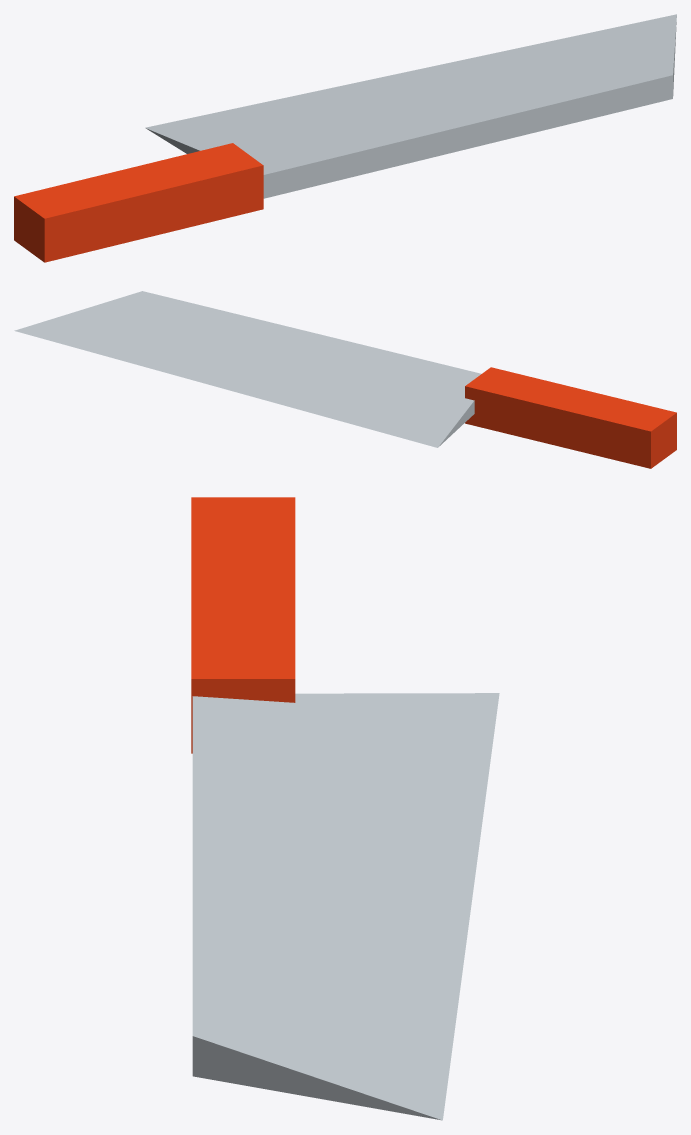
File: dao.FBX
3 views of the same model, one above another, from view 1: azimuth 30°, elevation 25°; view 2: azimuth 150°, elevation 25°; view 3: azimuth 270°, elevation 25° (orthographic). The views are drawn at different scales.
Parts seen in each view (by area): view 1: Object205; view 2: Object205; view 3: Object205.
Part boxes in pixels (bbox=[...]): Object205: bbox=[14, 14, 676, 262]; Object205: bbox=[14, 291, 676, 468]; Object205: bbox=[191, 497, 499, 1120].
Bounding box in the file's own units: 1.81 × 0.1077 × 0.4027.
